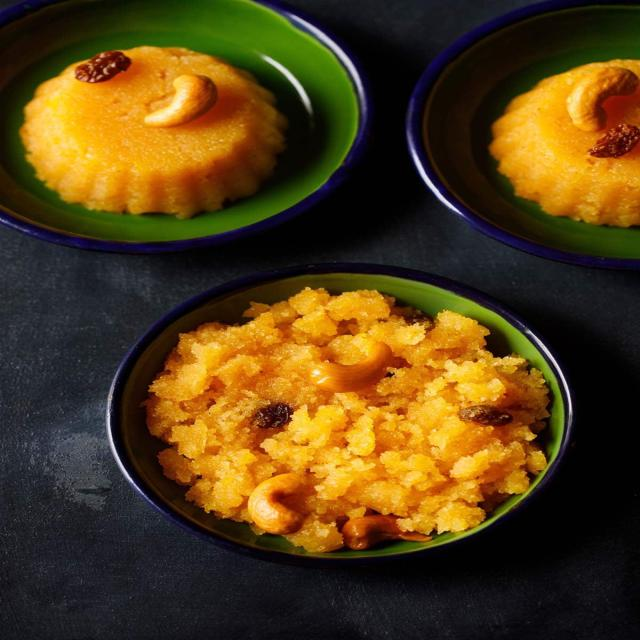kesari bath: (121, 274, 574, 564), (0, 30, 307, 228), (469, 46, 640, 236)
